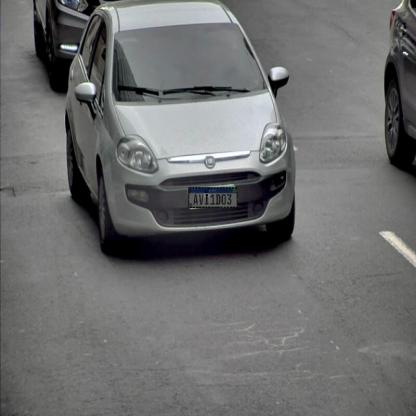PlacaM: (188, 187, 238, 208)
